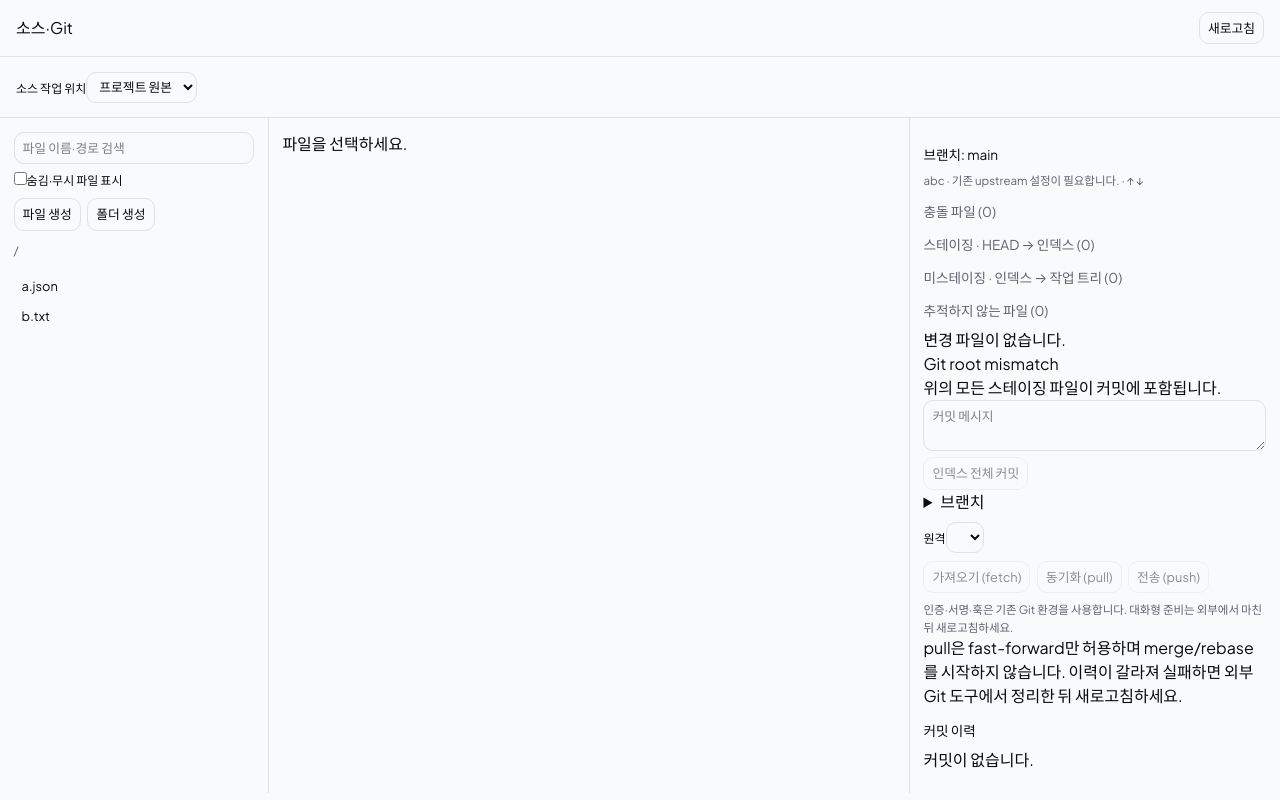
Test: keeps project files editable when only the Git root boundary is blocked
What coordinates should you click on to do the following:
click the button "a.json"
I would click on:
 (134, 286)
Its box is [14,271,254,302].
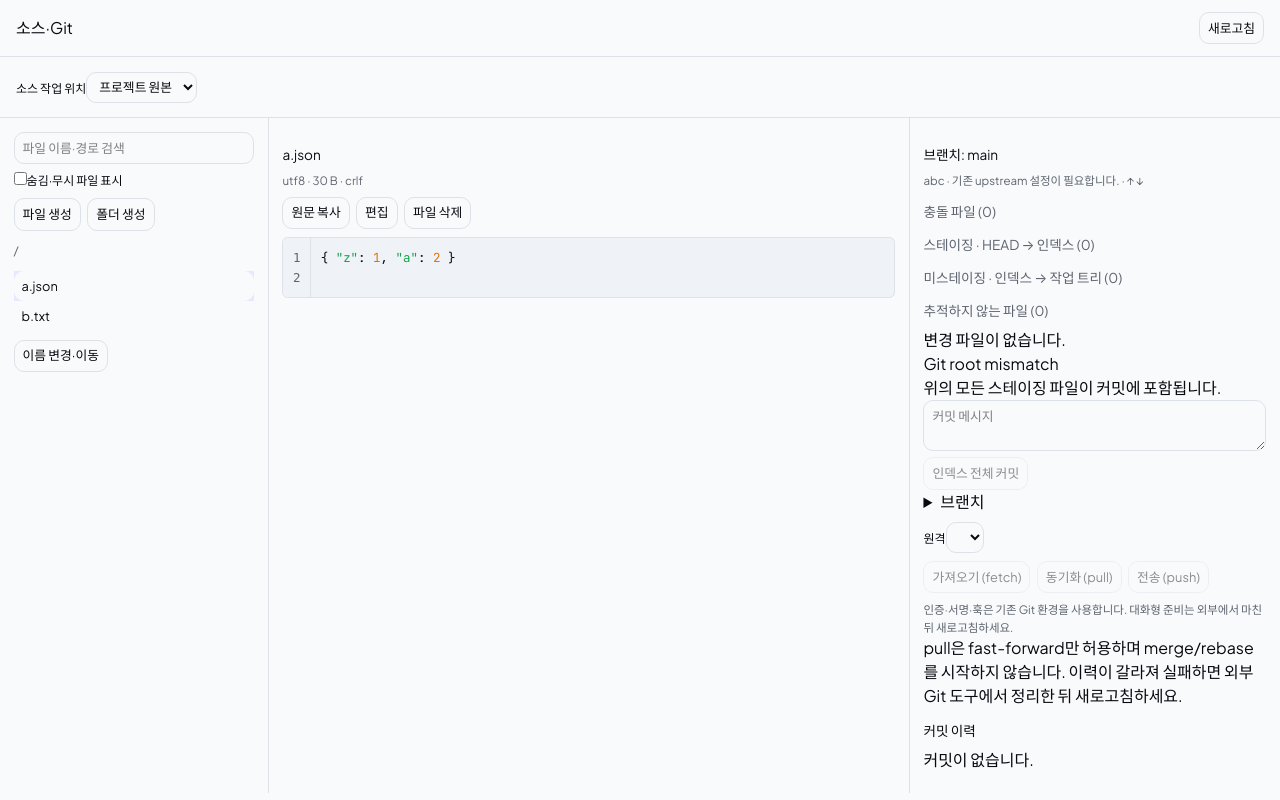
Result: the button "편집" is enabled at [356,197,398,229]
